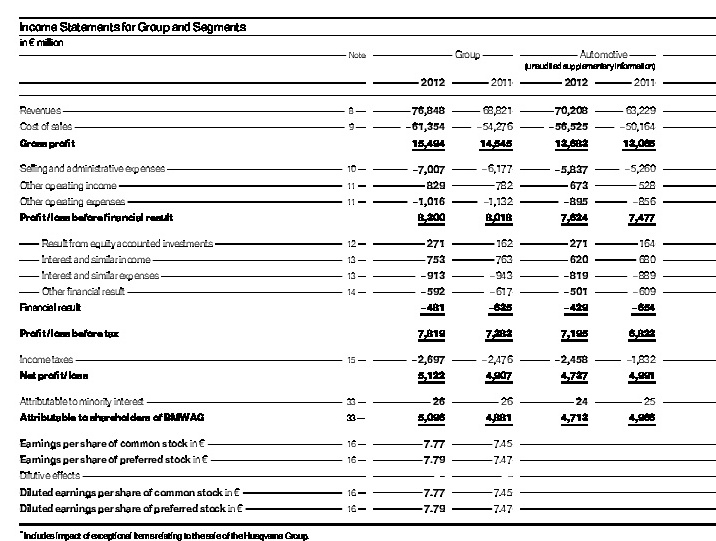table: (0, 0, 716, 541)
